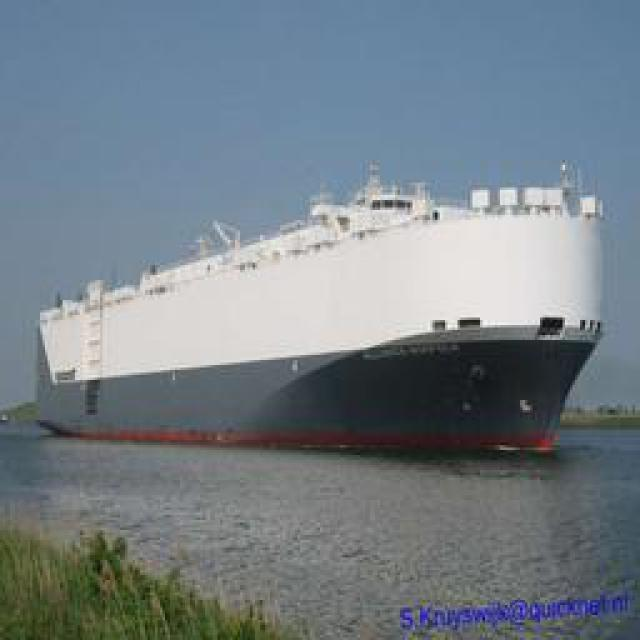Ship: (36, 165, 606, 445)
